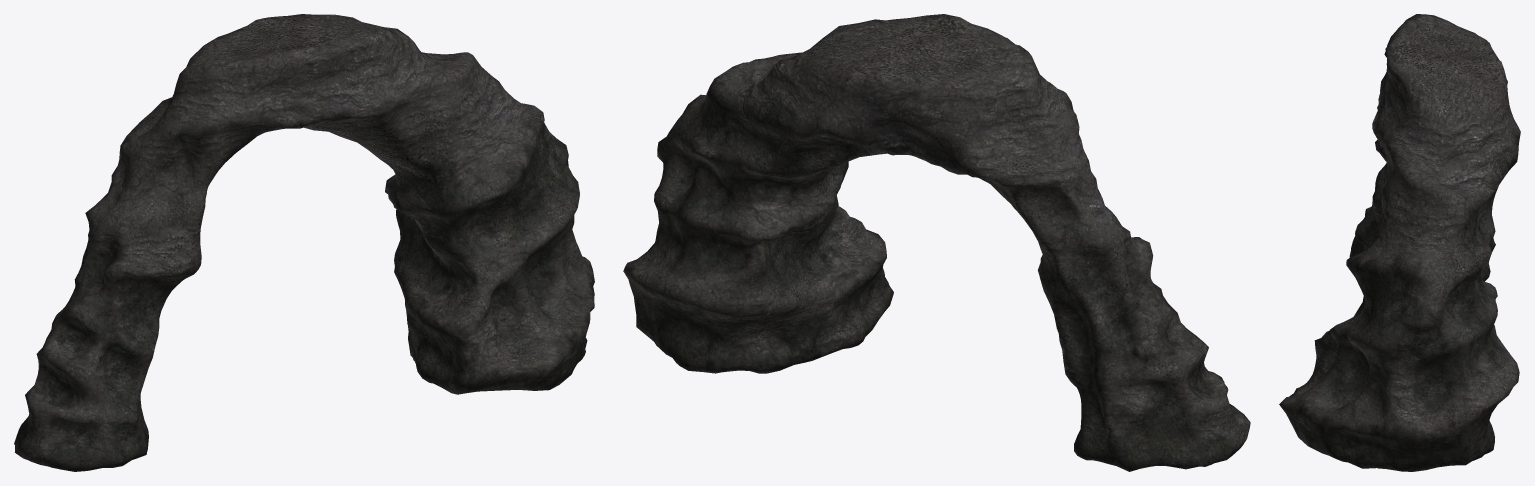
The picture shows the model from 3 angles, left to right: view 1: azimuth 30°, elevation 25°; view 2: azimuth 150°, elevation 25°; view 3: azimuth 270°, elevation 25°; orthographic projection. The views are drawn at different scales.
Visible parts, largest first — view 1: SmallArch_Obj.002; view 2: SmallArch_Obj.002; view 3: SmallArch_Obj.002.
Part boxes in pixels (bbox=[...]): SmallArch_Obj.002: bbox=[14, 14, 594, 471]; SmallArch_Obj.002: bbox=[623, 14, 1250, 471]; SmallArch_Obj.002: bbox=[1279, 14, 1520, 471].
Size of the model in its own units: 137 by 81.98 by 56.15.
1 material, 1 textured.
